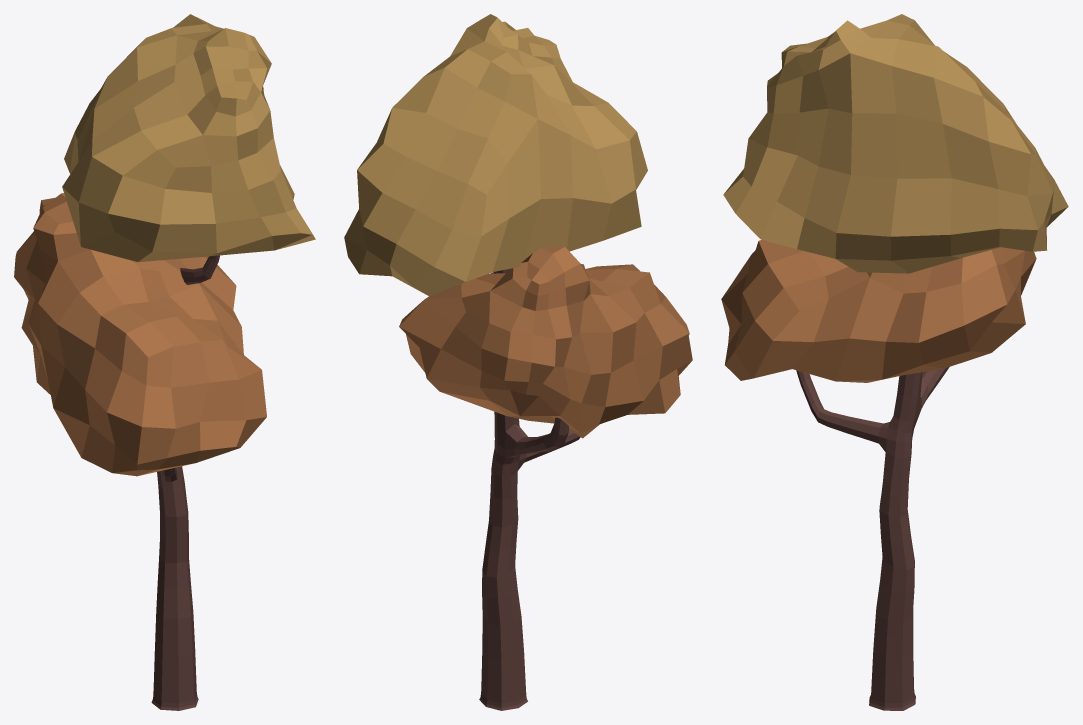
The model's file is CommonTree_Autumn_3.glb.
3 views of the same model, side by side, from view 1: azimuth 30°, elevation 25°; view 2: azimuth 150°, elevation 25°; view 3: azimuth 270°, elevation 25° (orthographic). The views are drawn at different scales.
Parts seen in each view (by area): view 1: Orange, LightOrange, Wood; view 2: LightOrange, Orange, Wood; view 3: LightOrange, Orange, Wood.
Part boxes in pixels (x1,y1,x2,y2): Orange: [14, 193, 266, 476]; LightOrange: [62, 14, 315, 261]; Wood: [151, 255, 219, 710]; LightOrange: [344, 14, 647, 296]; Orange: [399, 246, 692, 438]; Wood: [479, 269, 580, 710]; LightOrange: [723, 14, 1068, 273]; Orange: [721, 240, 1036, 382]; Wood: [796, 367, 949, 710].
Size of the model in its own units: 1.28 by 3.46 by 1.56.
